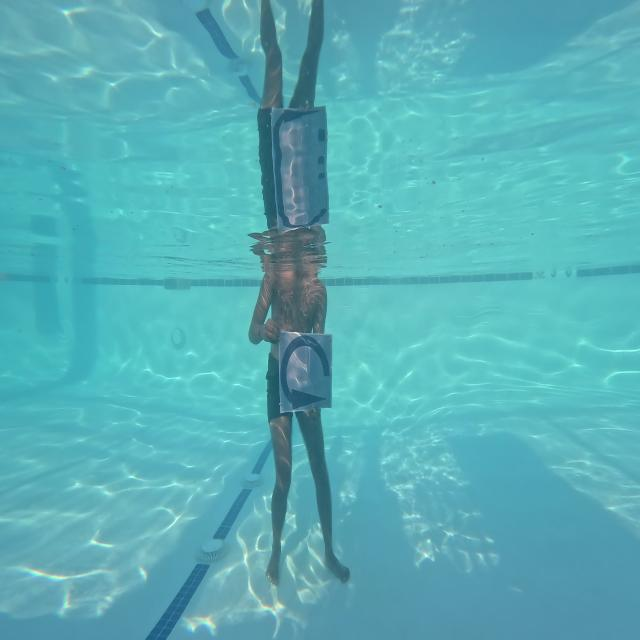blue_side: (265, 323, 342, 427)
